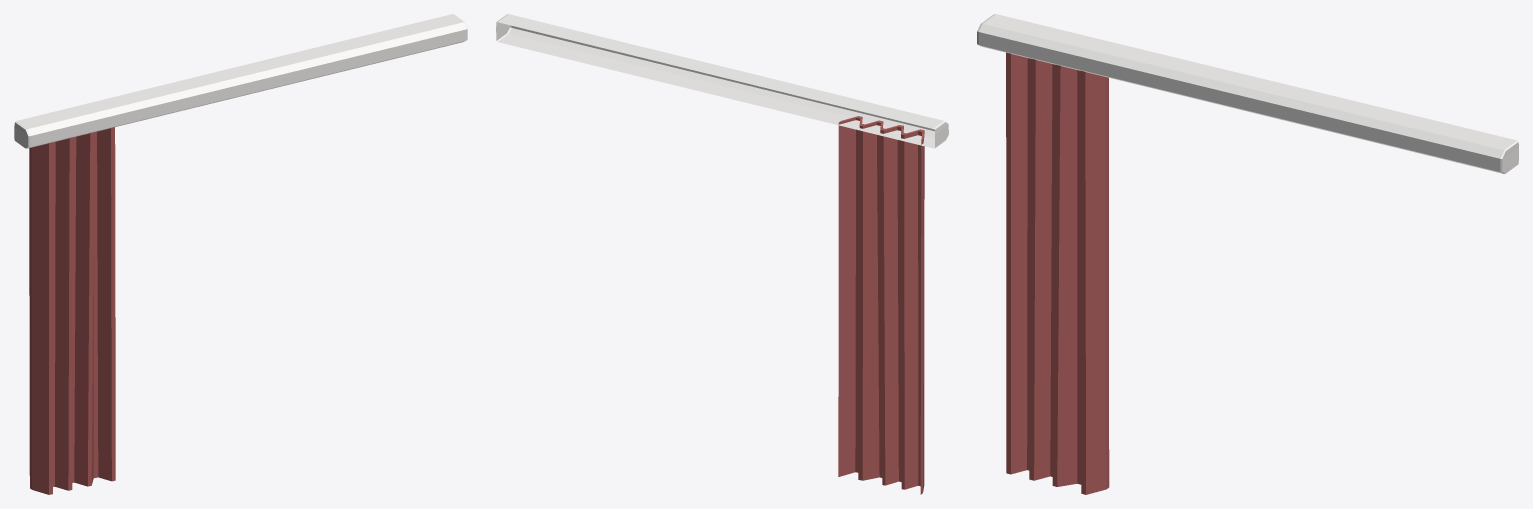
Rendered from Curtains_3.fbx.
3 views of the same model, side by side, from view 1: azimuth 30°, elevation 25°; view 2: azimuth 150°, elevation 25°; view 3: azimuth 330°, elevation 25° (orthographic). The views are drawn at different scales.
Parts seen in each view (by area): view 1: Curtains_3; view 2: Curtains_3; view 3: Curtains_3.
Part boxes in pixels (left/top/right/bottom): Curtains_3: left=14, top=14, right=467, bottom=494; Curtains_3: left=496, top=14, right=948, bottom=494; Curtains_3: left=977, top=14, right=1518, bottom=494.
Size of the model in its own units: 464 by 26.2 by 376.
